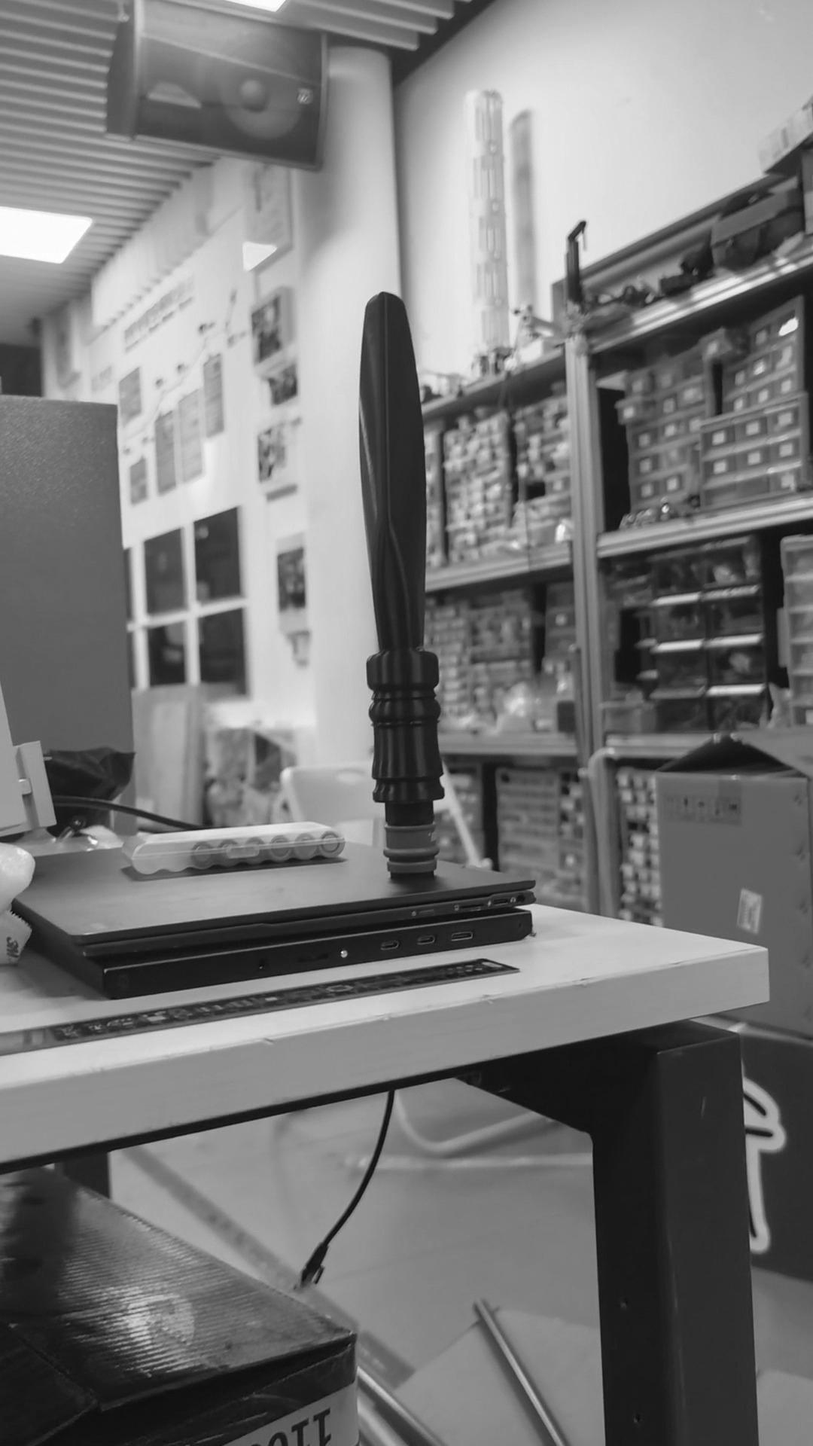base: (376, 809, 451, 892)
